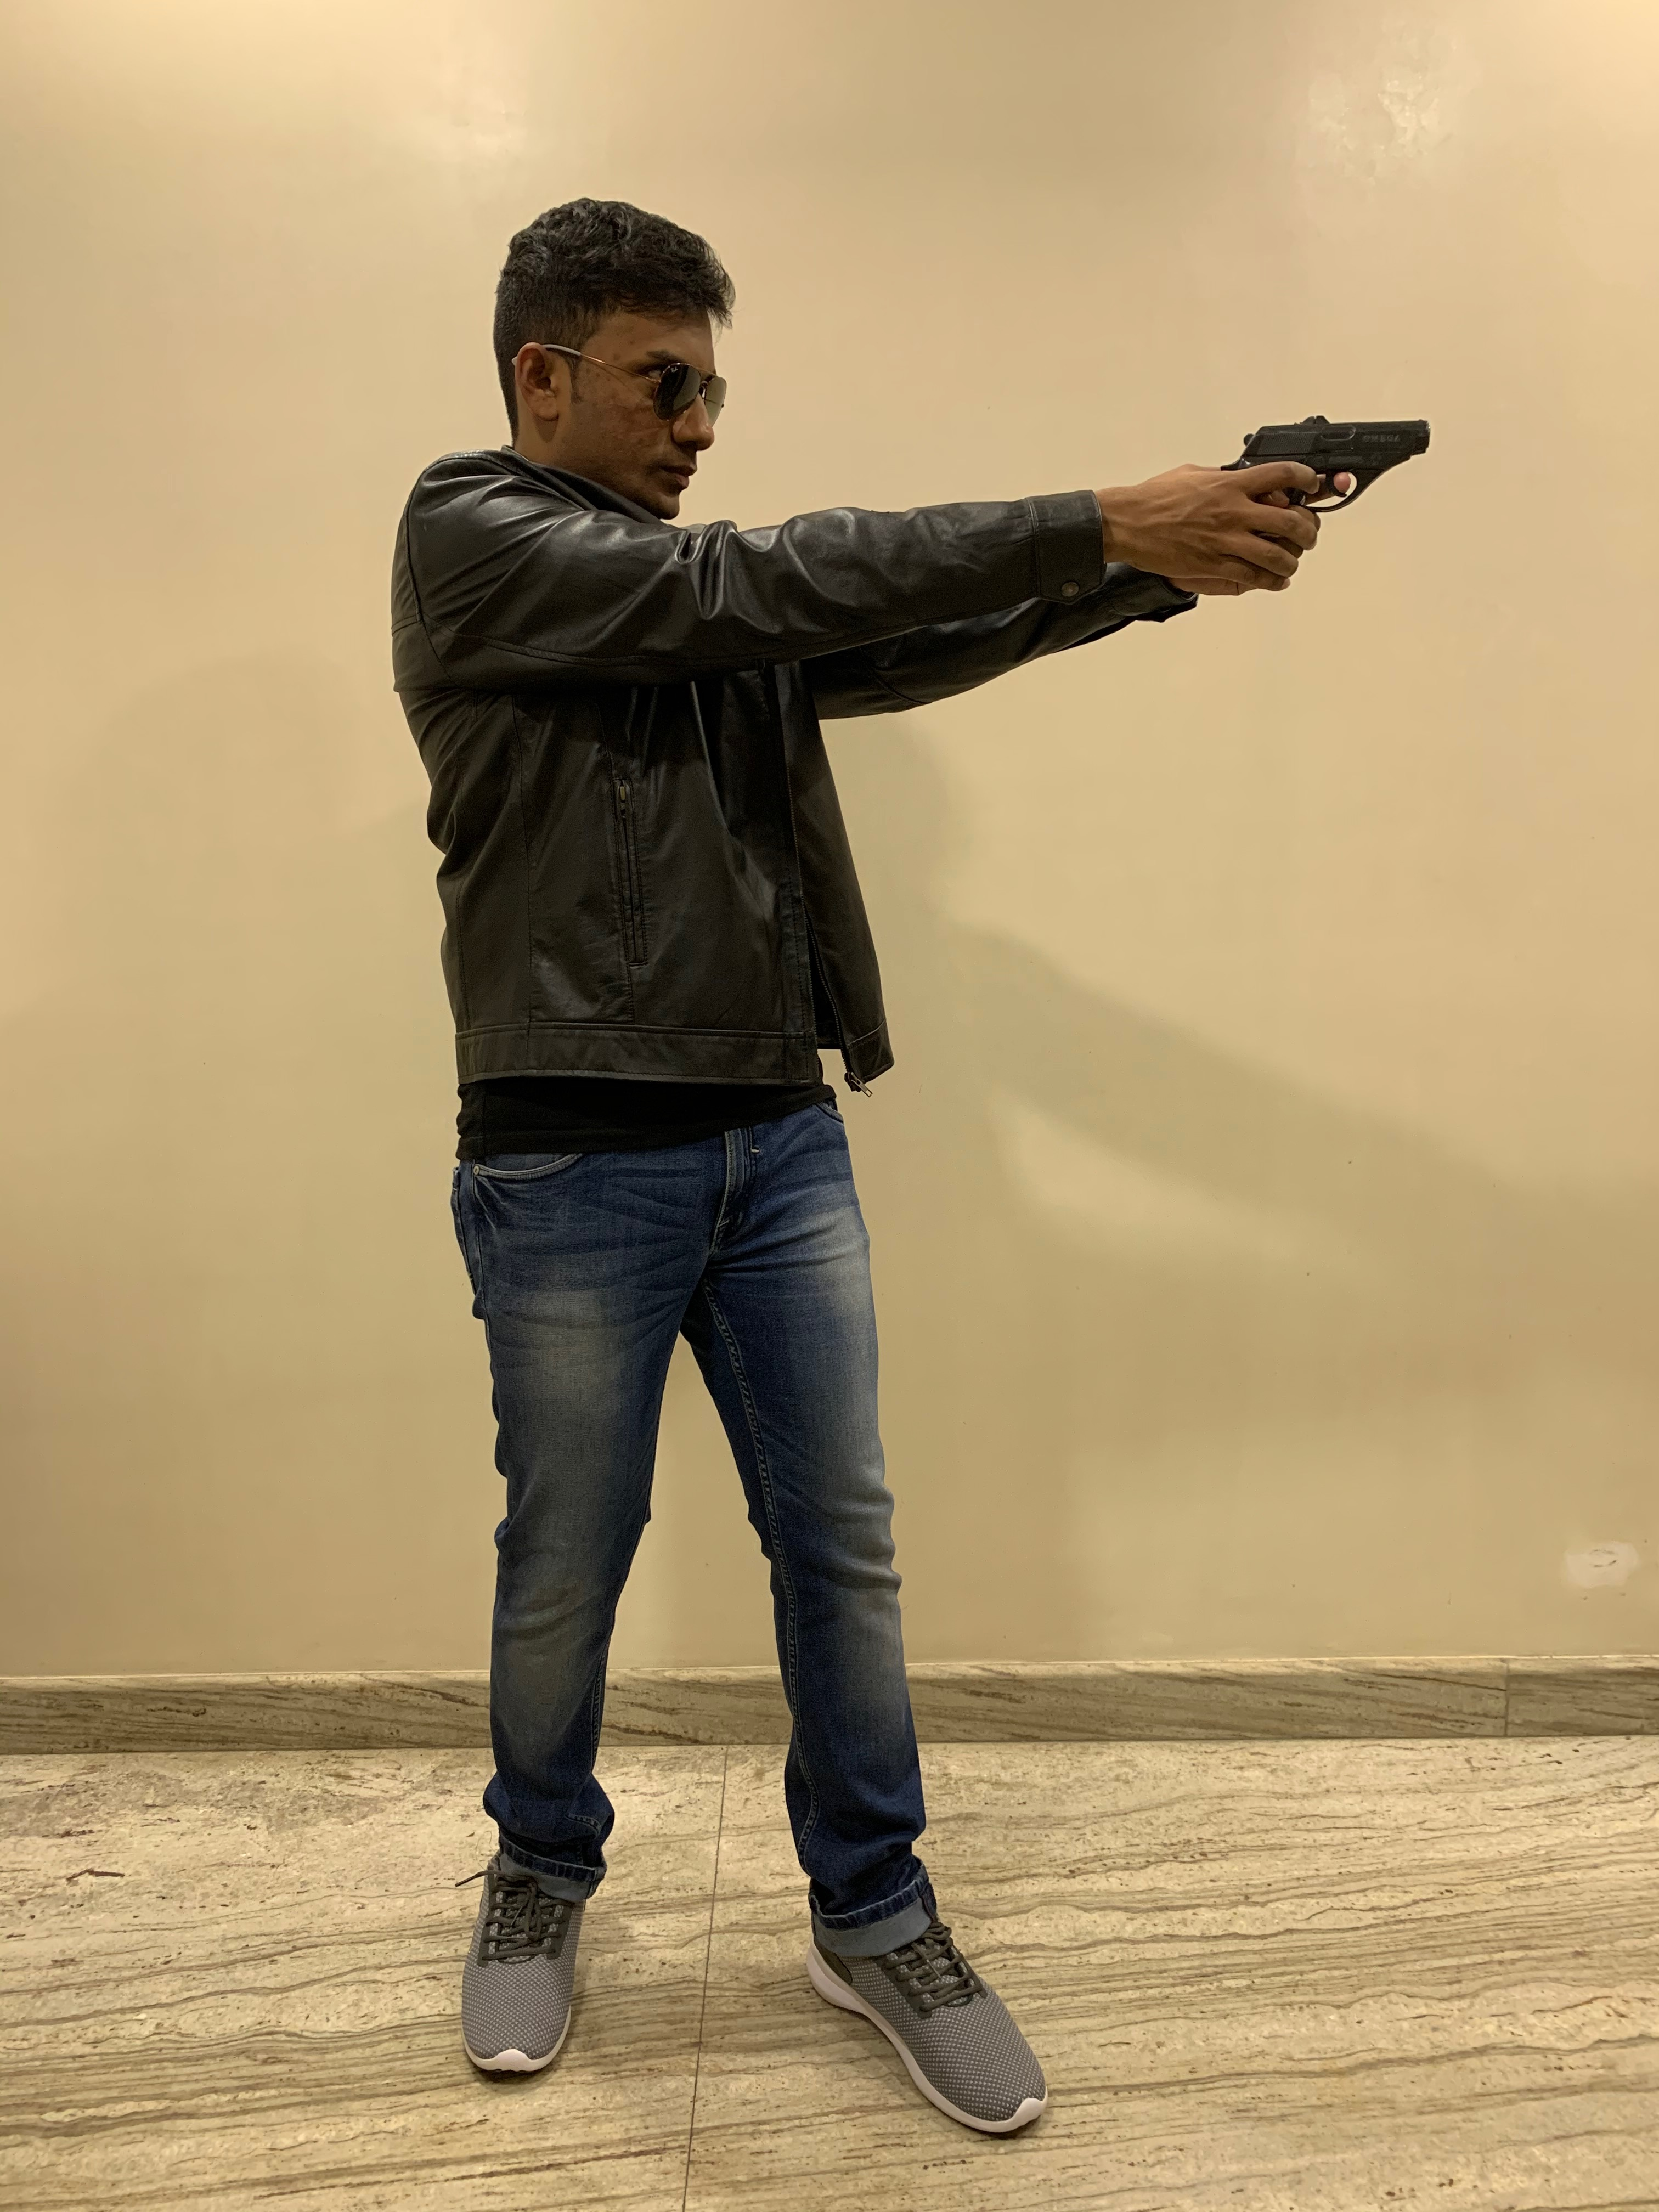gun: (1223, 408, 1429, 519)
